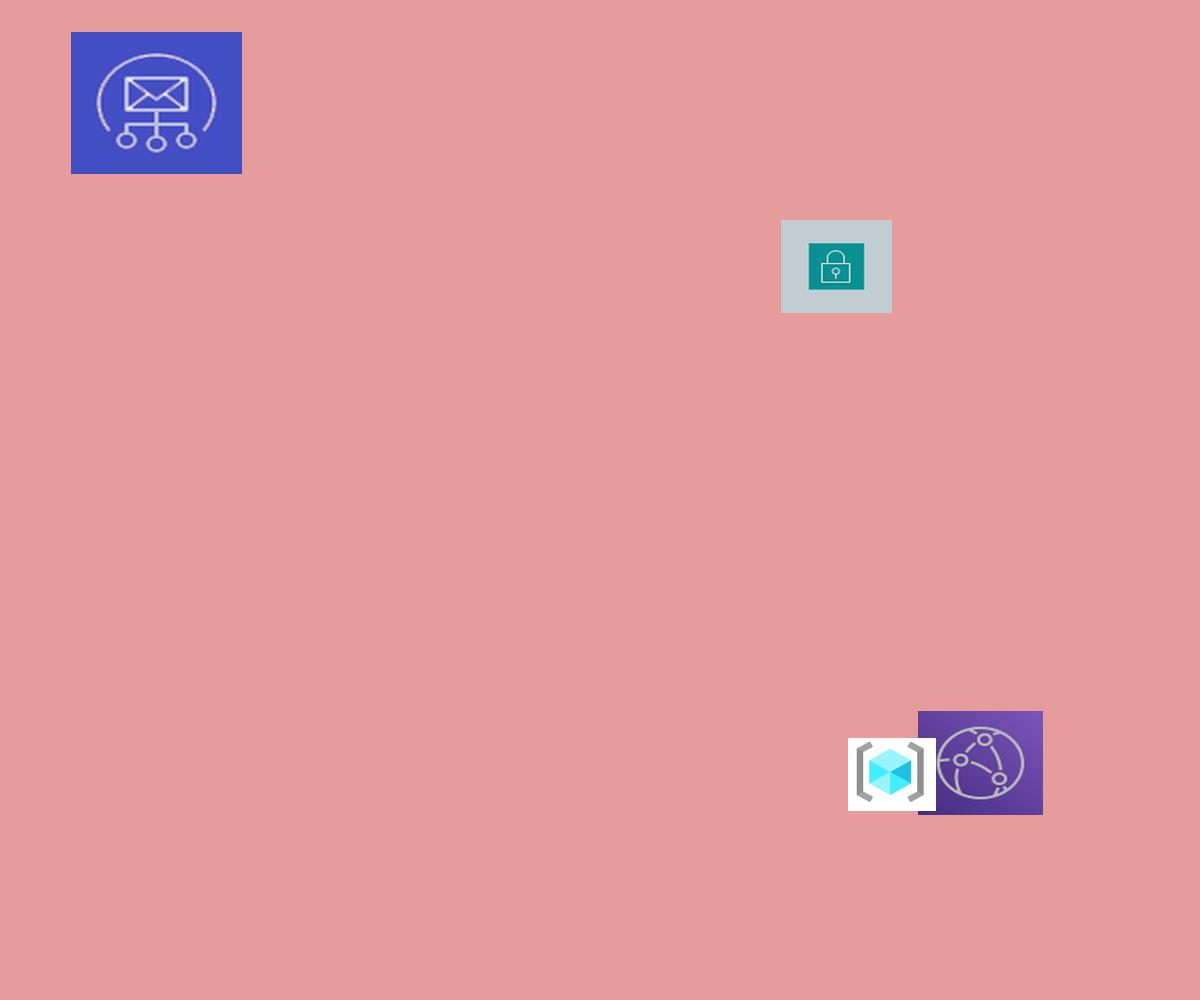AWS-CloudFront: (918, 711, 1043, 815)
AWS-Private-subnet: (781, 220, 892, 313)
AWS-Simple-Email-Service: (71, 32, 242, 174)
Azure_resource_group: (848, 738, 936, 811)
